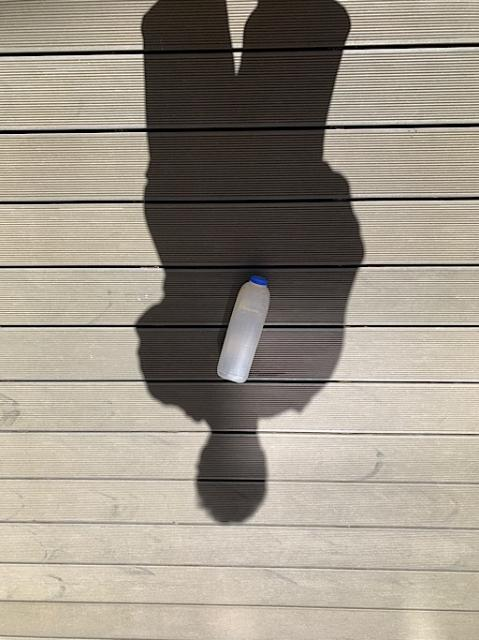plastic: (216, 275, 269, 381)
